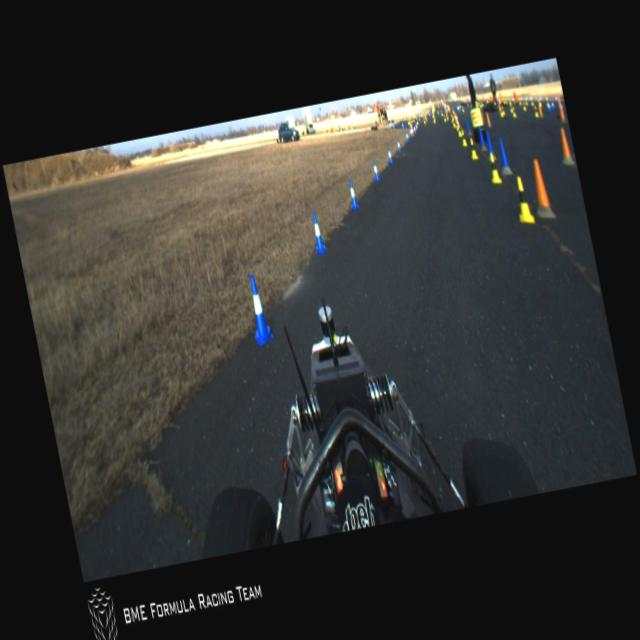blue_cone: (242, 270, 274, 346), (308, 210, 327, 254), (346, 178, 360, 210), (371, 158, 381, 182), (386, 146, 394, 164), (396, 138, 402, 152), (404, 130, 410, 144), (547, 102, 552, 114), (415, 122, 419, 132), (409, 128, 414, 136), (552, 102, 556, 111), (392, 123, 396, 129), (456, 104, 459, 112), (467, 102, 470, 109), (414, 125, 416, 134), (402, 122, 404, 128)
large_orange_cone: (409, 120, 415, 136), (454, 112, 460, 128)
unknown_cone: (526, 156, 558, 222), (554, 125, 576, 167), (496, 136, 514, 176), (482, 130, 498, 163), (476, 124, 486, 152), (558, 103, 568, 122), (465, 118, 473, 136), (486, 111, 492, 128), (538, 104, 544, 117), (446, 112, 449, 120), (404, 120, 406, 128)
yellow_cone: (511, 176, 536, 227), (487, 153, 503, 185), (468, 138, 478, 160), (460, 128, 467, 144), (511, 106, 517, 120), (534, 105, 540, 118), (457, 124, 462, 138), (522, 101, 527, 111), (452, 118, 457, 128), (499, 108, 504, 117), (442, 114, 447, 122), (432, 115, 436, 124), (460, 104, 464, 113), (502, 106, 506, 114), (423, 116, 426, 125), (425, 115, 428, 123), (451, 114, 454, 122), (416, 118, 419, 125), (406, 118, 409, 125), (441, 110, 444, 116), (510, 106, 513, 112)
